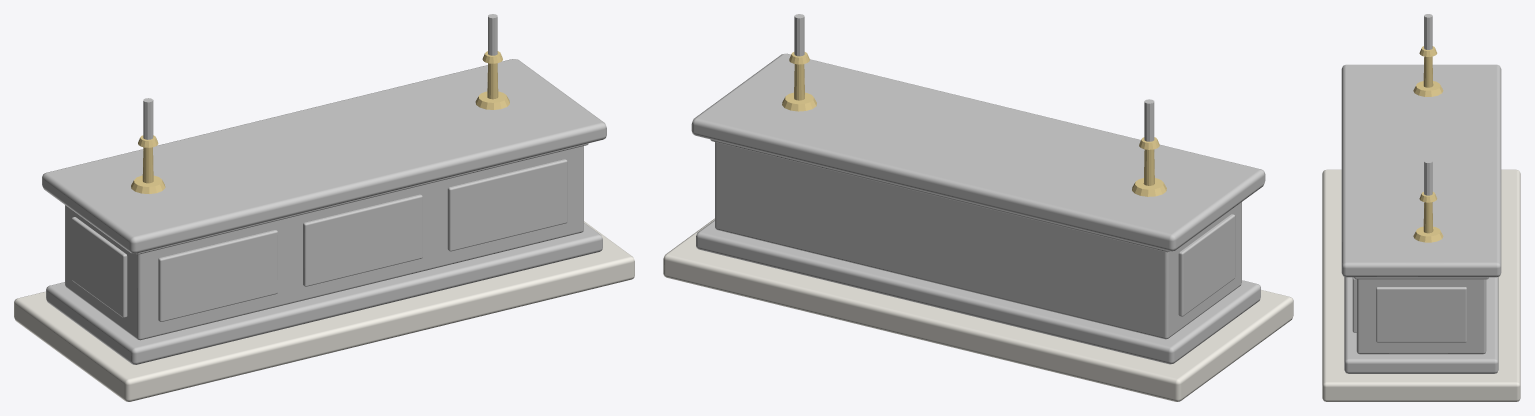
Rendered from altar_marble.glb.
3 renders of one model, left to right at view 1: azimuth 30°, elevation 25°; view 2: azimuth 150°, elevation 25°; view 3: azimuth 270°, elevation 25°, orthographic. The views are drawn at different scales.
Visible parts, largest first — view 1: altar_marble.statuary, altar_marble.marble, altar_marble.gold, altar_marble.wax; view 2: altar_marble.statuary, altar_marble.marble, altar_marble.gold, altar_marble.wax; view 3: altar_marble.statuary, altar_marble.marble, altar_marble.gold, altar_marble.wax.
Boxes of the visible parts, <box> form: altar_marble.statuary: <box>42,59,606,364</box>; altar_marble.marble: <box>14,221,634,401</box>; altar_marble.gold: <box>131,51,509,193</box>; altar_marble.wax: <box>143,14,497,139</box>; altar_marble.statuary: <box>691,53,1265,364</box>; altar_marble.marble: <box>663,218,1293,401</box>; altar_marble.gold: <box>782,52,1166,196</box>; altar_marble.wax: <box>794,14,1154,141</box>; altar_marble.statuary: <box>1341,64,1501,373</box>; altar_marble.marble: <box>1322,169,1520,401</box>; altar_marble.gold: <box>1413,46,1443,242</box>; altar_marble.wax: <box>1424,14,1432,195</box>.
Bounding box in the file's own units: 3.7 × 1.66 × 1.44.
